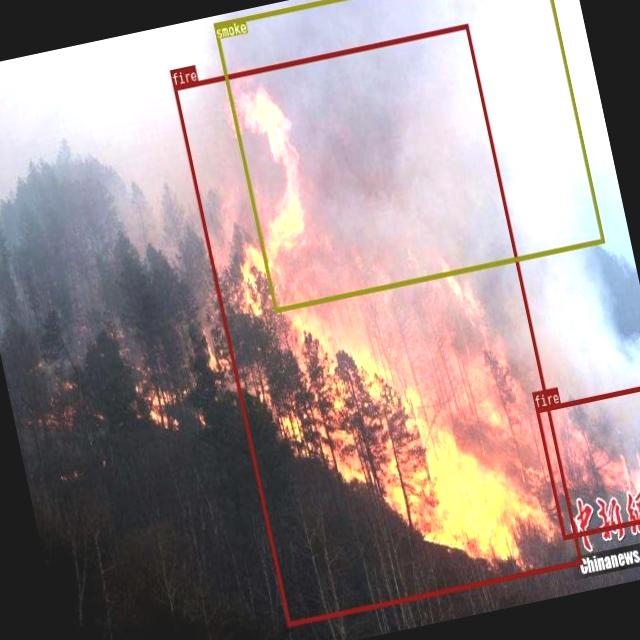fire: (173, 22, 582, 626), (535, 382, 640, 539)
smoke: (213, 0, 604, 312)
